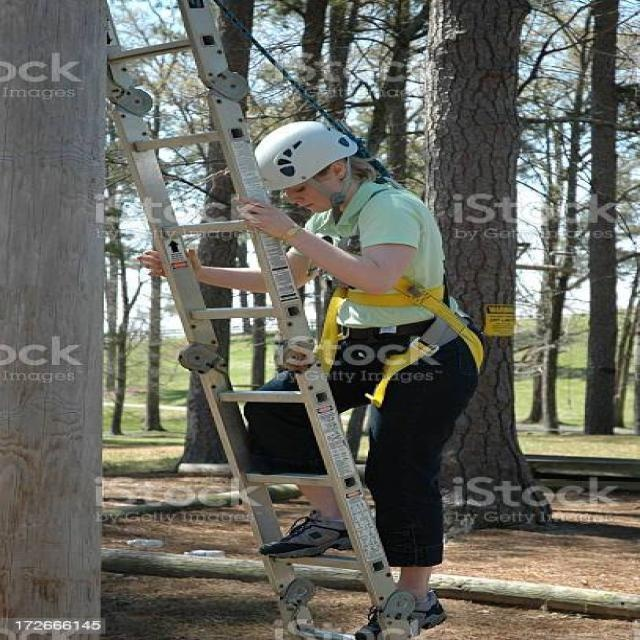Arnes_seguridad: (317, 185, 497, 405)
